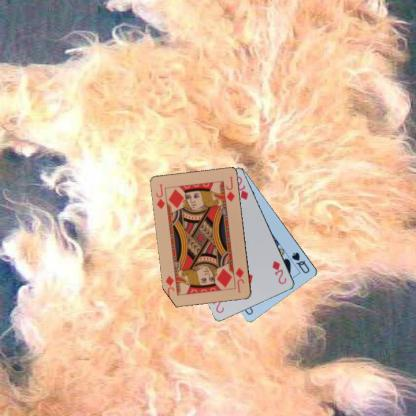2d: (270, 258, 288, 286)
Jd: (154, 182, 166, 210), (234, 265, 245, 294)
Qs: (289, 250, 311, 275)
